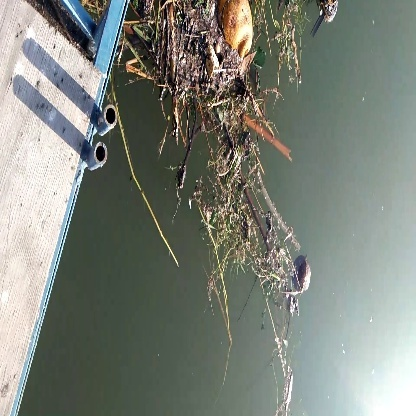ball: (216, 1, 258, 56)
